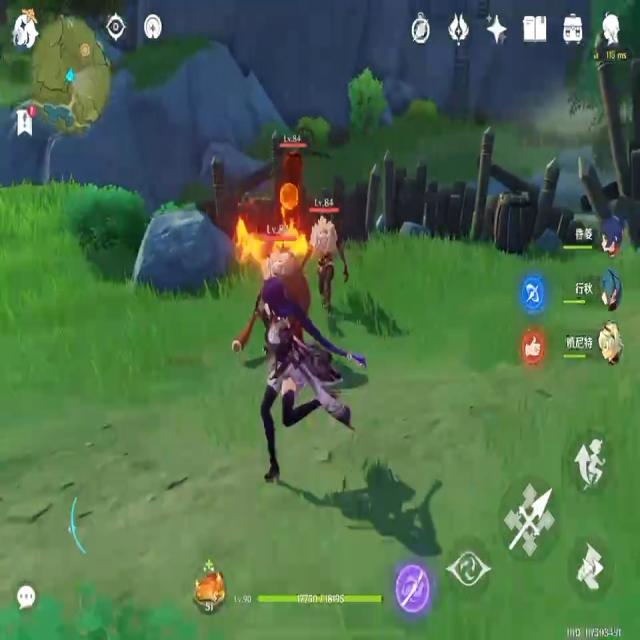genshin-hilichurls: (305, 194, 349, 306), (275, 133, 300, 222), (261, 240, 297, 281)
